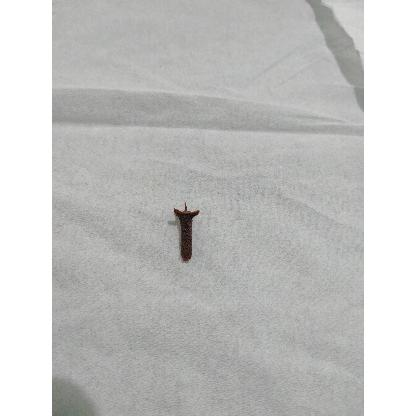buruk: (173, 202, 200, 264)
